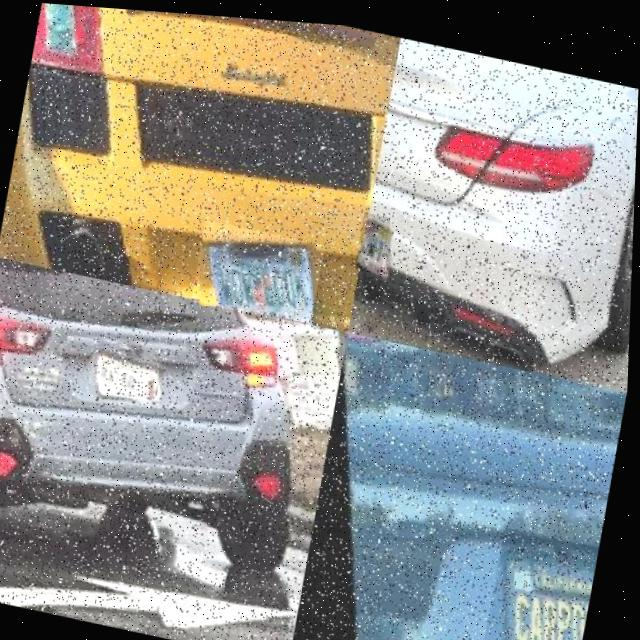LicensePlate: (486, 518, 604, 640), (204, 236, 315, 310), (94, 345, 162, 395), (359, 208, 391, 268)
